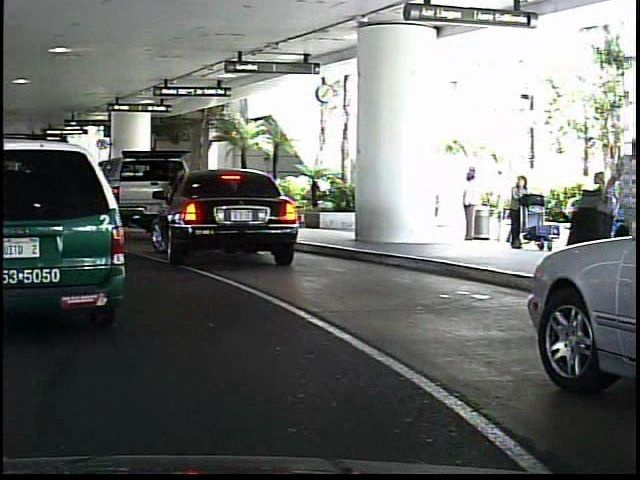person: (500, 172, 530, 257)
